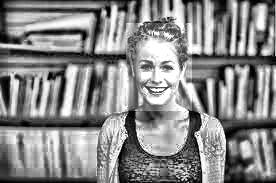happy: (127, 23, 193, 111)
